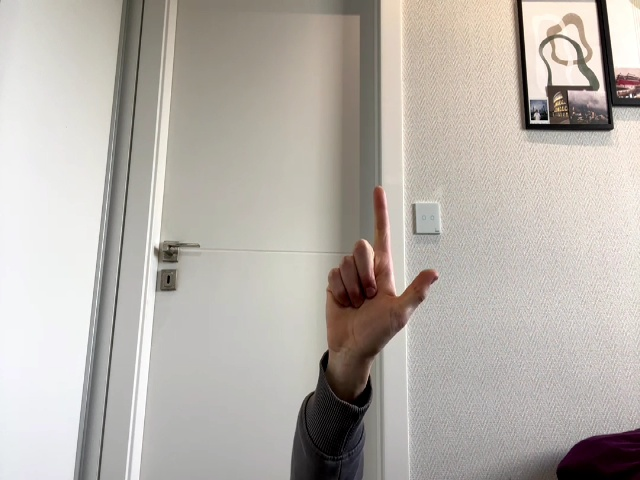L: (325, 186, 439, 357)
